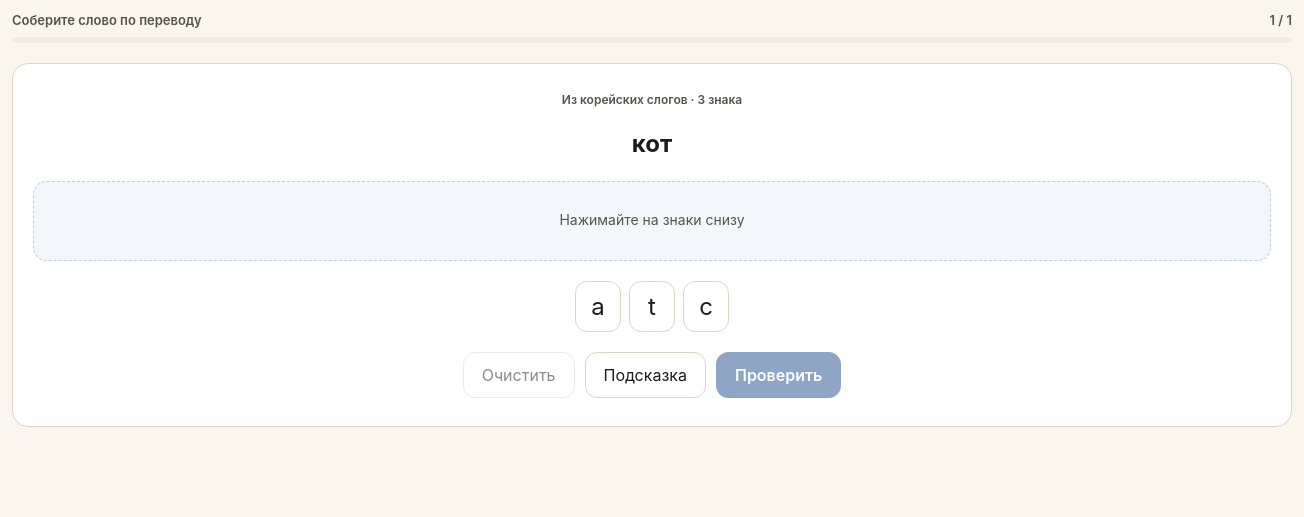
Test case: показывает правильное написание после ошибки
Click the button "t" at (652, 306), box [629,281,675,332]
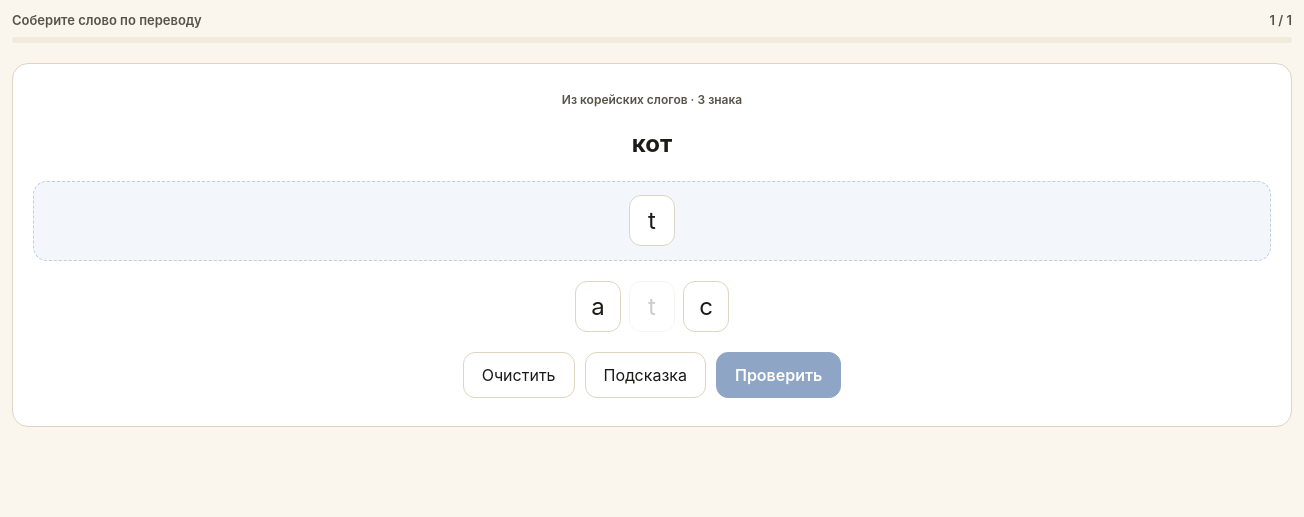
Click the button "a" at (598, 306), box [575,281,621,332]
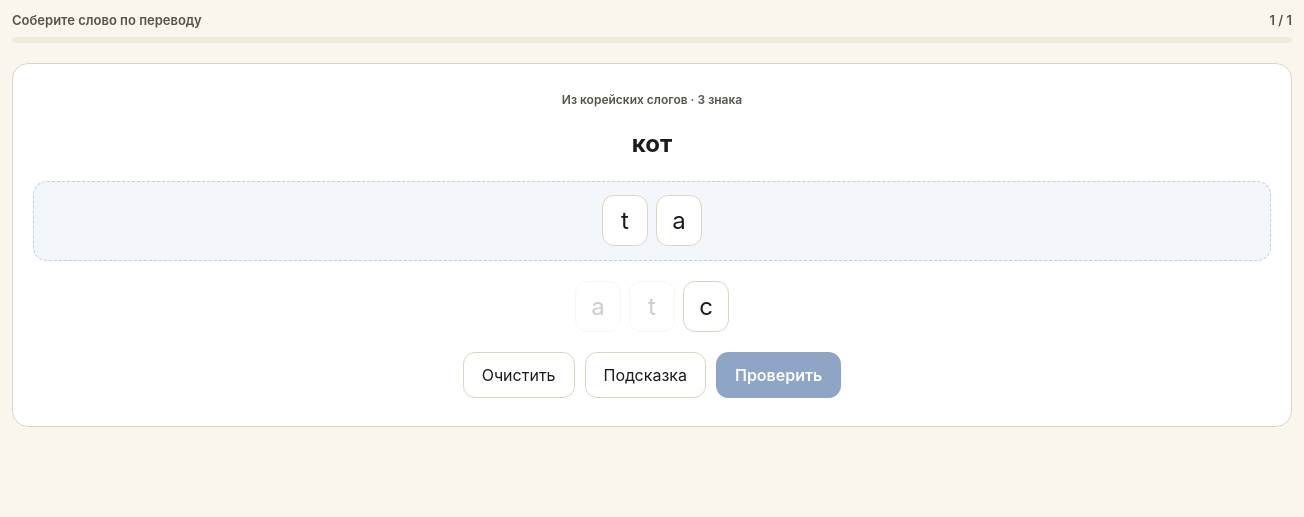
Click the button "c" at (706, 306), box [683,281,729,332]
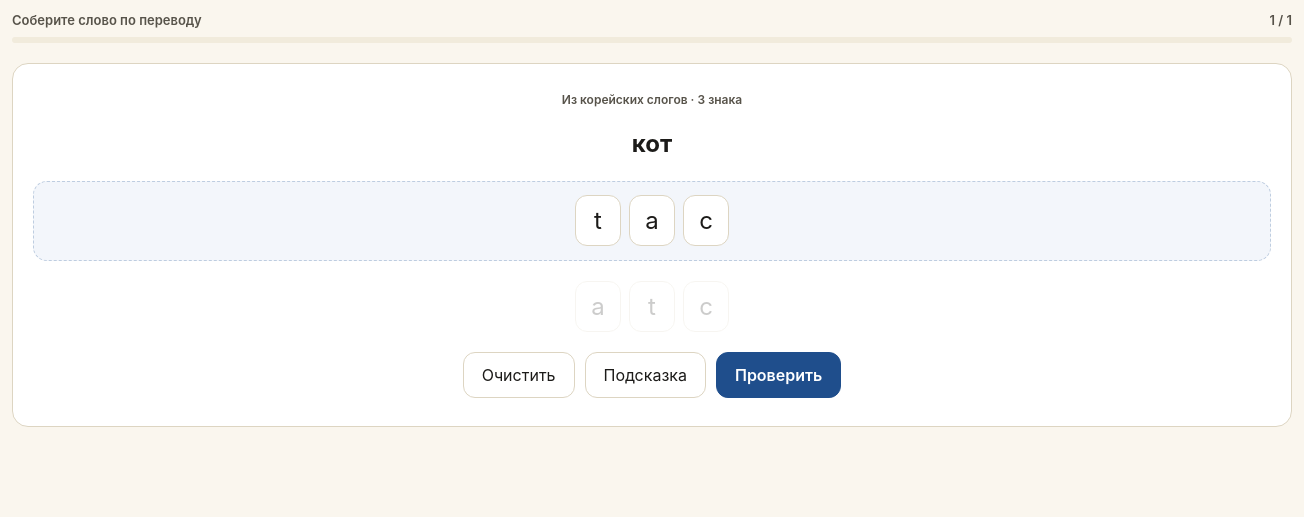
Click the button "Проверить" at (779, 375), box [716,352,841,398]
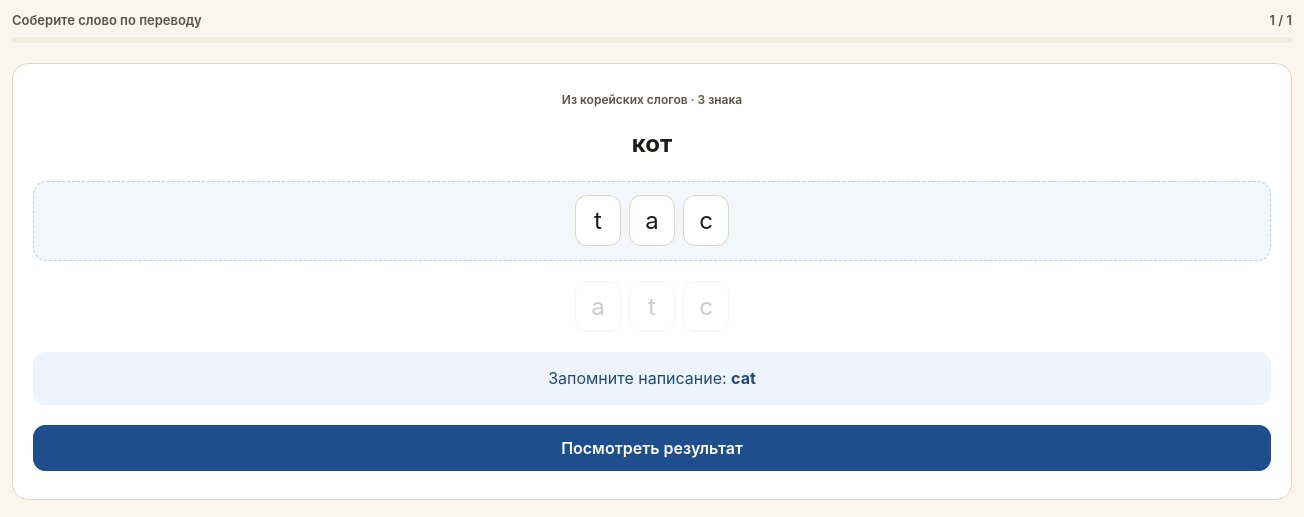
Expected: the message reads "Запомните написание: cat", [33,352,1271,405]
Click the button "Посмотреть результат" at (652, 448), box [33,425,1271,471]
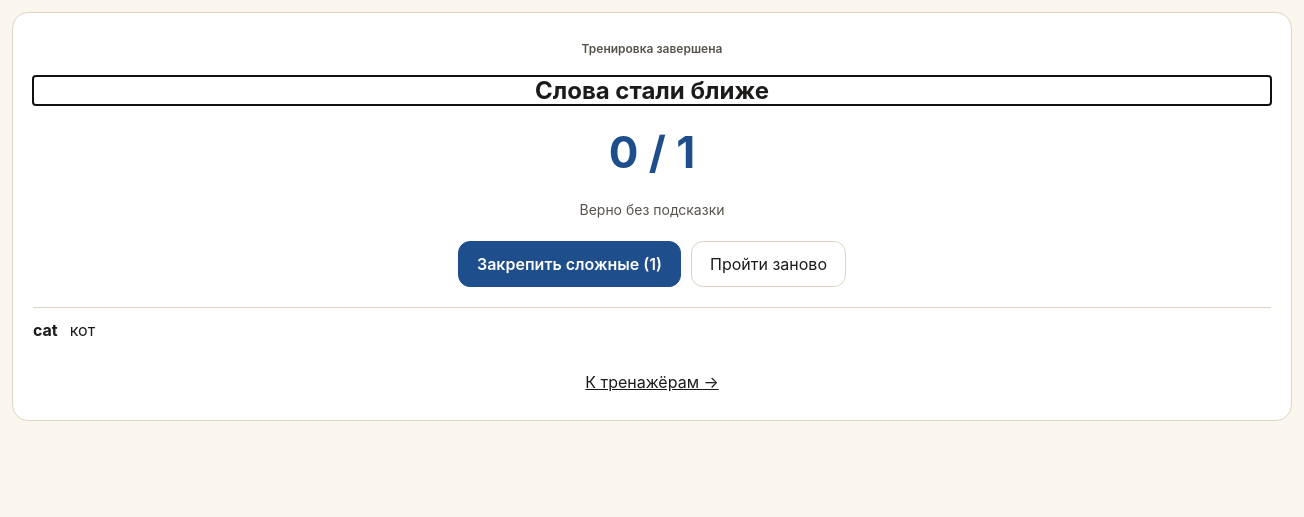
Expected: the list named "Слова для повторения" shows "cat", [33,320,58,340]
